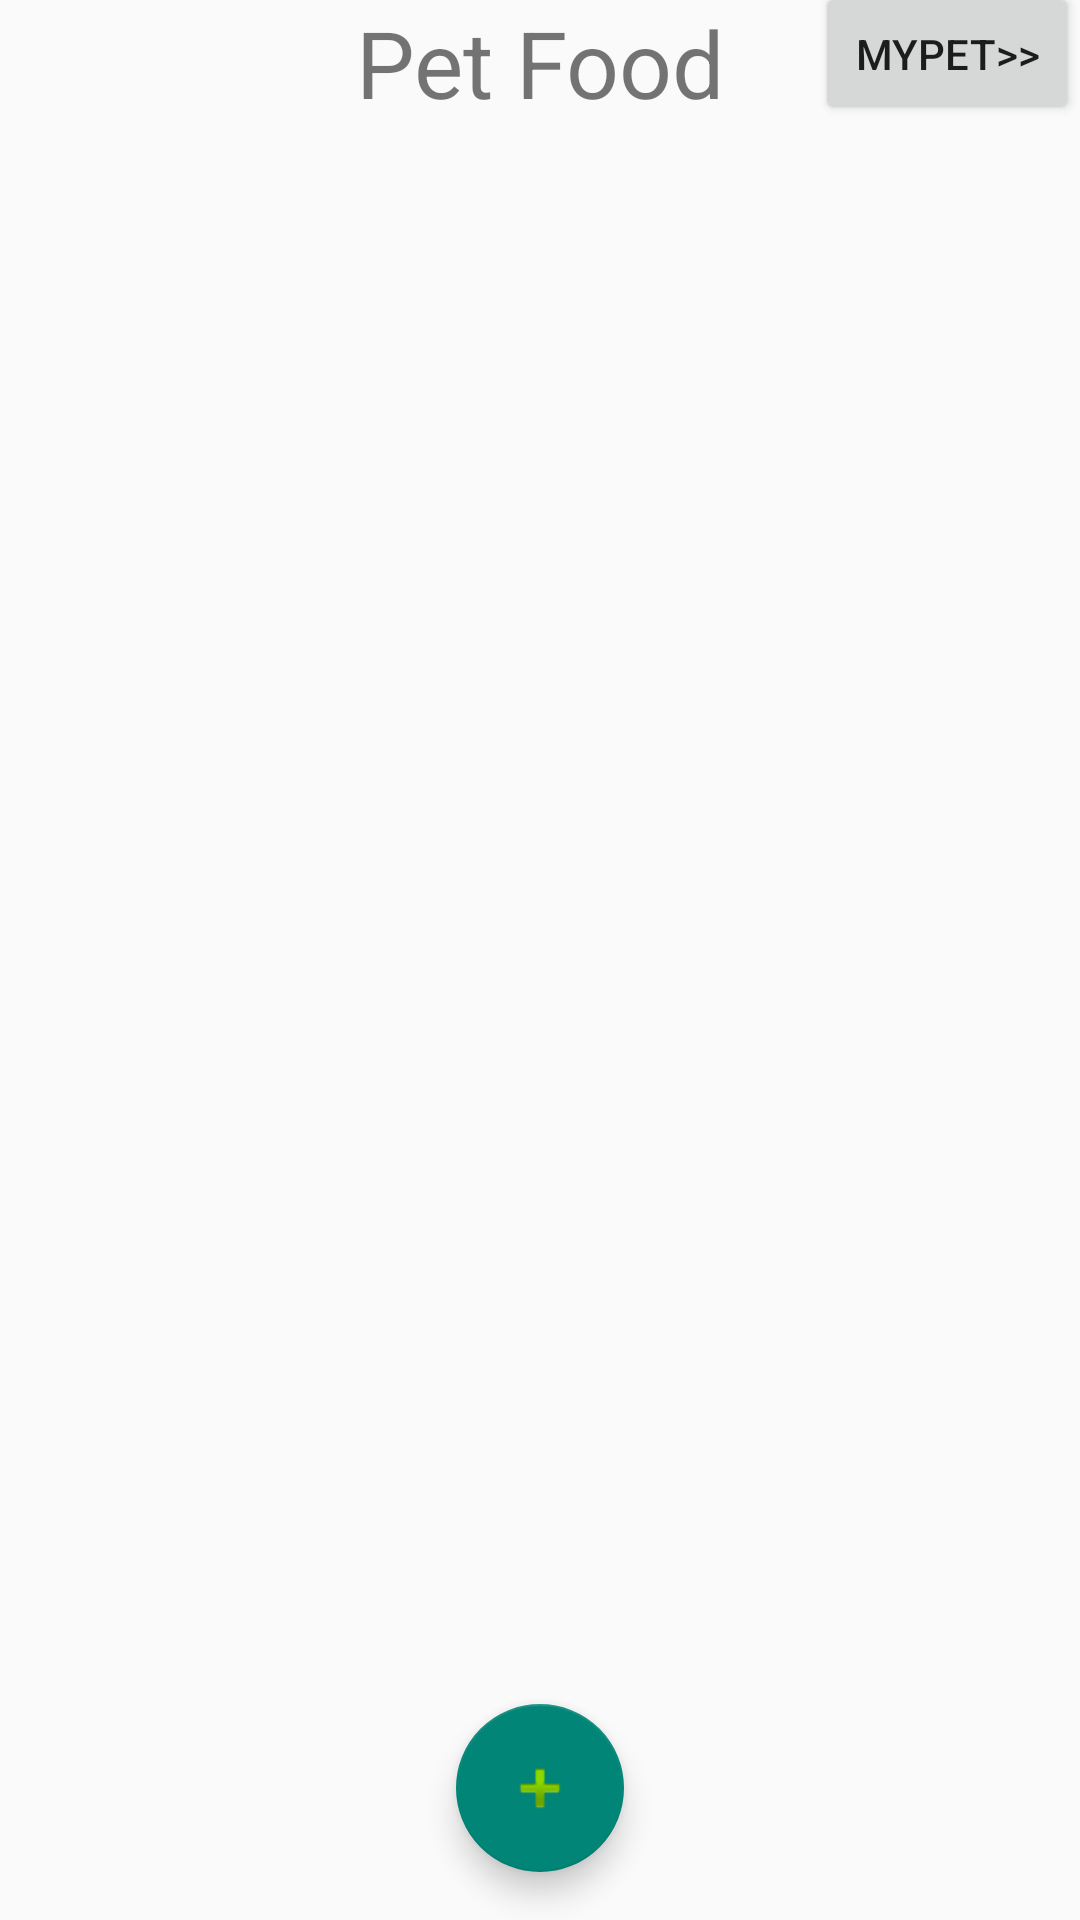

Named icons in this screenshot (1080w x 1920h) and their bounding boxes, (x1, y1, x2, y2):
add: (456, 1704, 624, 1872)
